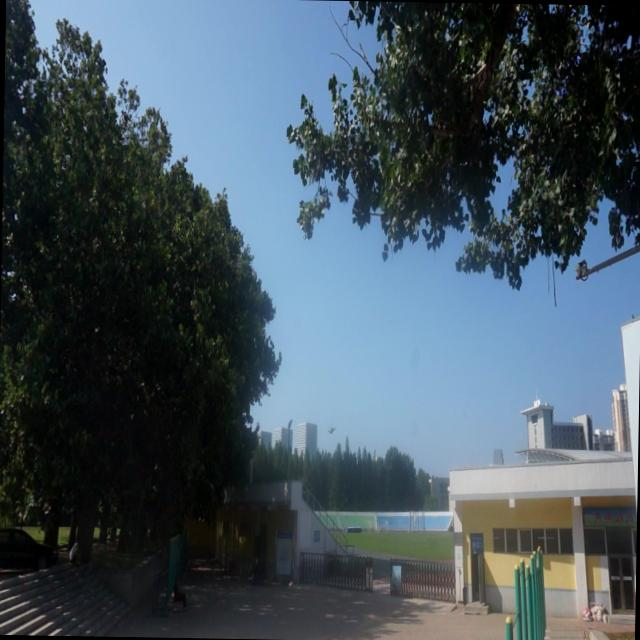drone: (324, 419, 338, 438)
